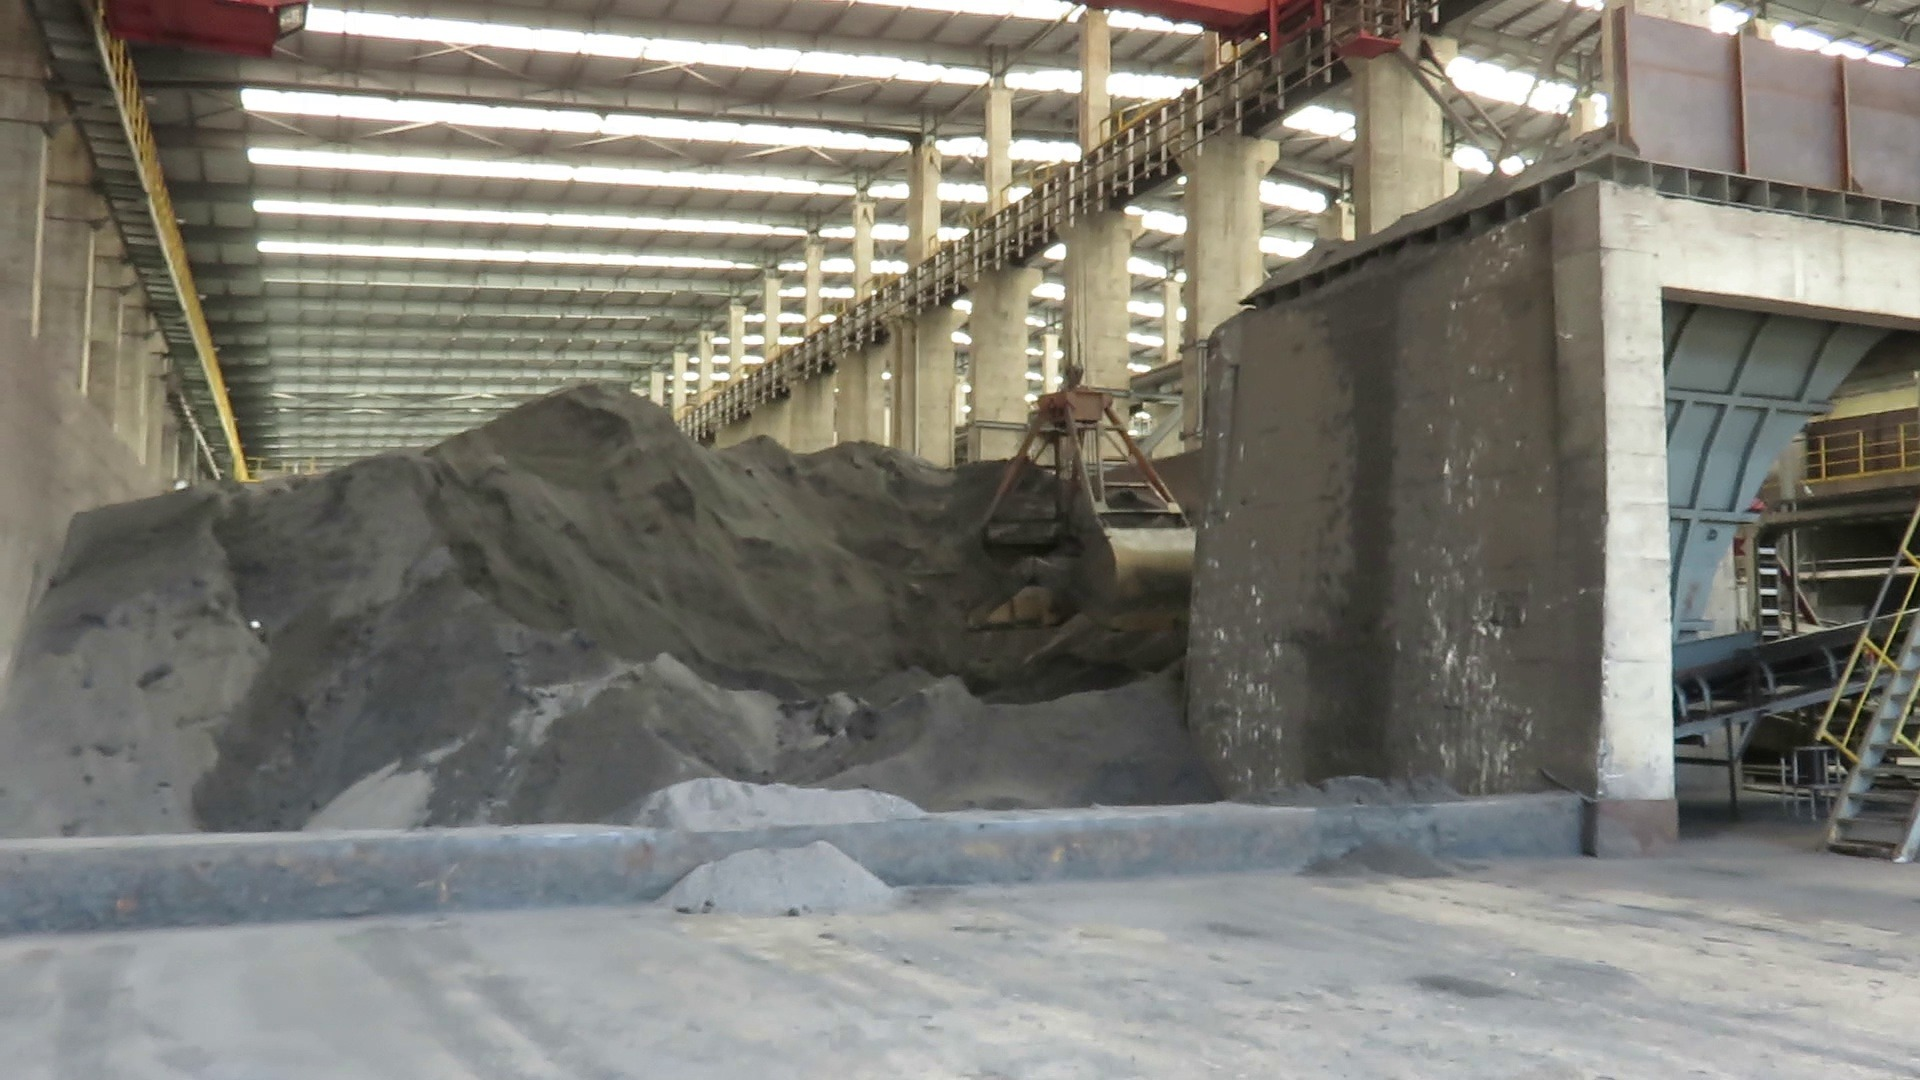grab: (909, 357, 1208, 703)
